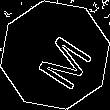M_NW: (21, 22, 89, 88)
